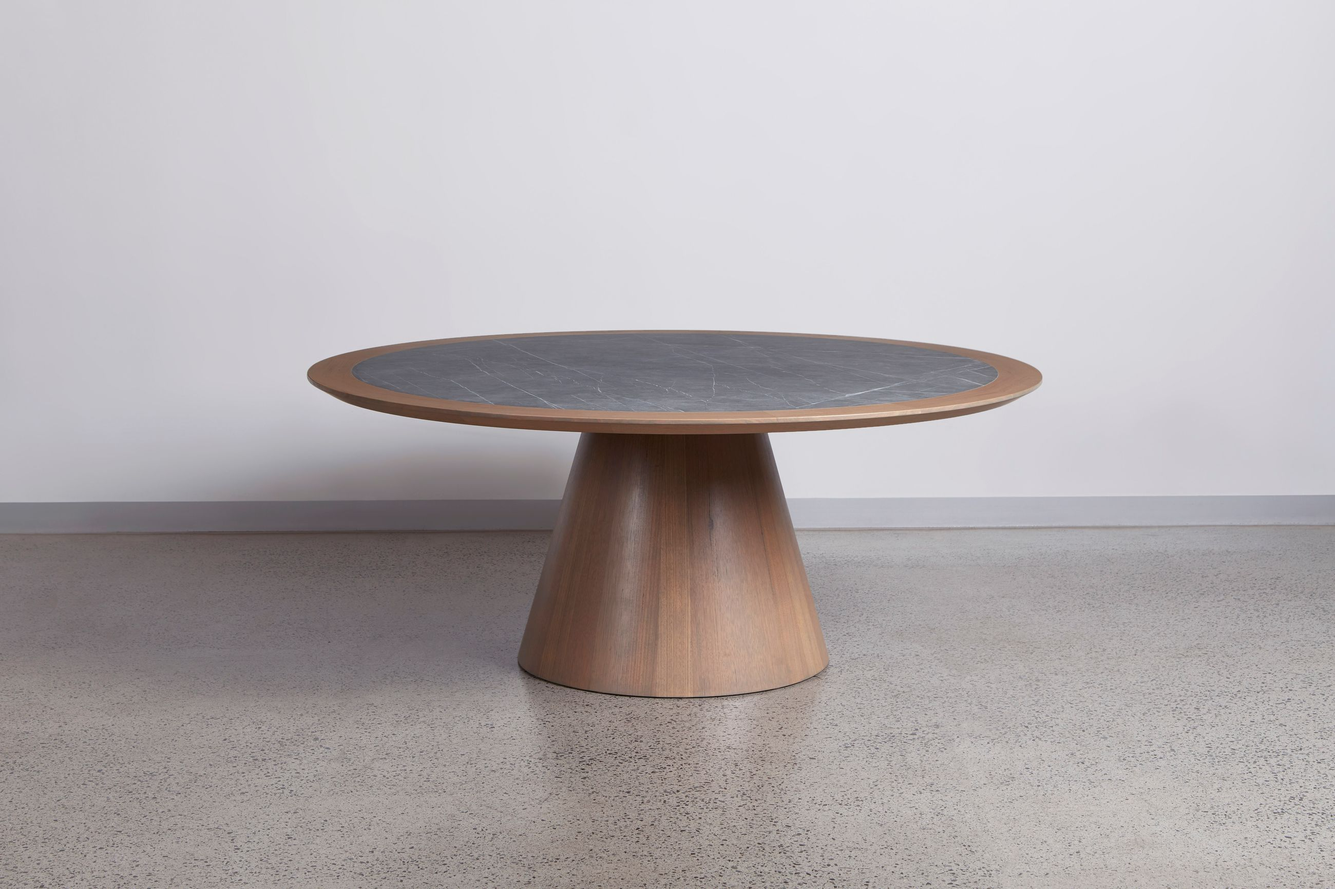not a gesture sign: (0, 526, 1334, 888)
